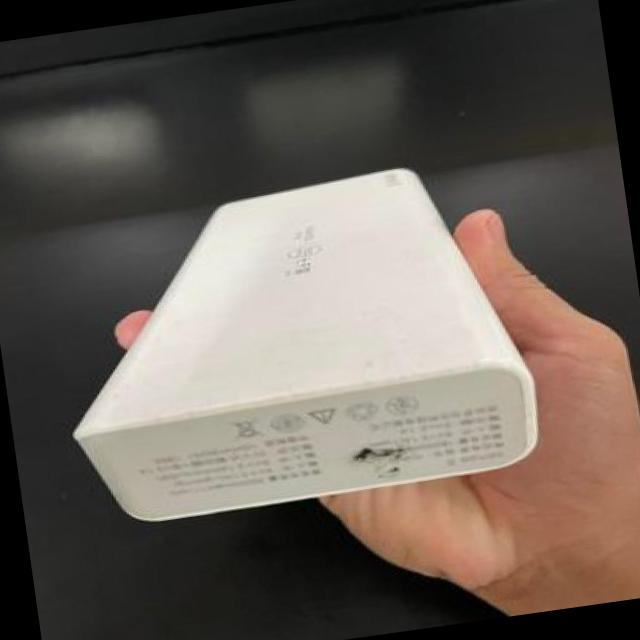power_bank: (36, 134, 555, 542)
